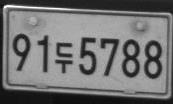1: (34, 34, 54, 73)
5: (77, 36, 97, 76)
7: (99, 37, 119, 77)
8: (142, 38, 163, 80), (120, 38, 140, 78)
9: (11, 32, 31, 71)
두: (54, 41, 73, 74)
